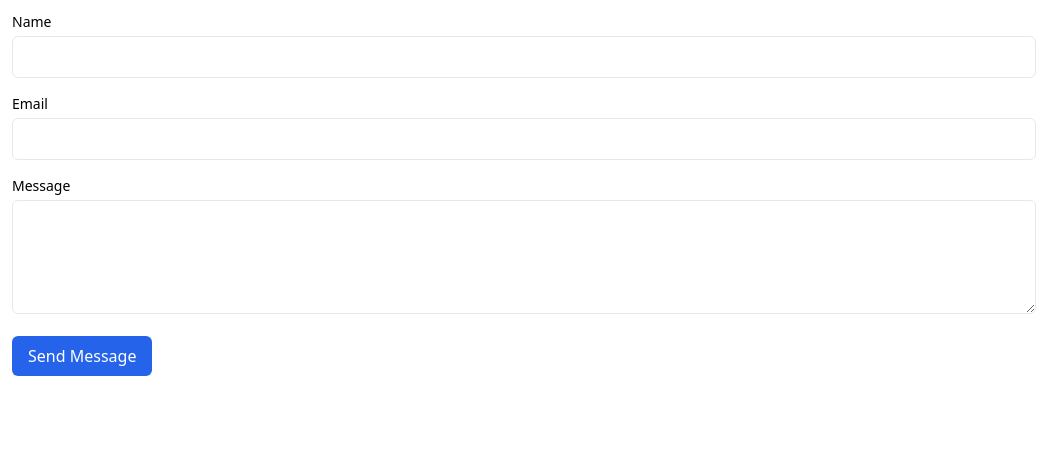
Test: ContactForm validation › shows success message after successful submission
Type "John Doe" into the field with id "name". click: (524, 57)
box: [12,36,1036,78]
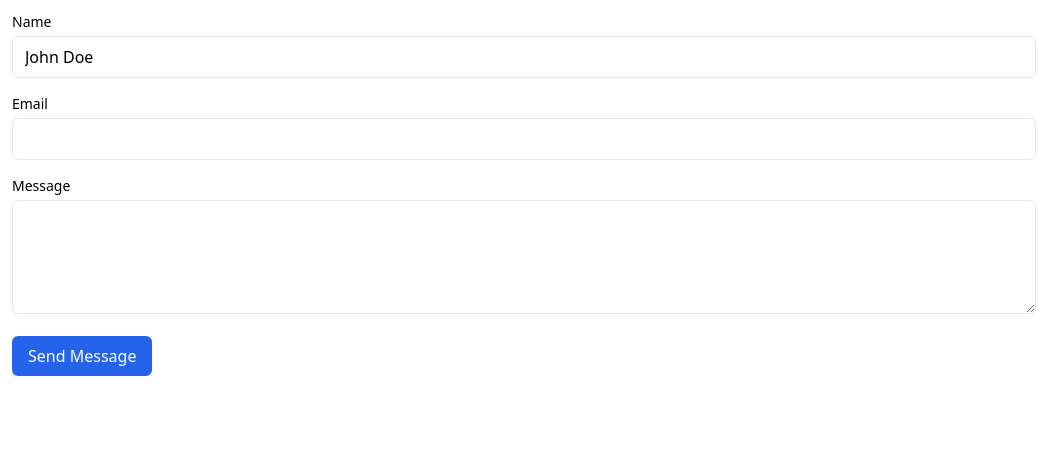
Type "john@example.com" into the field with id "email". click: (524, 139)
box: [12,118,1036,160]
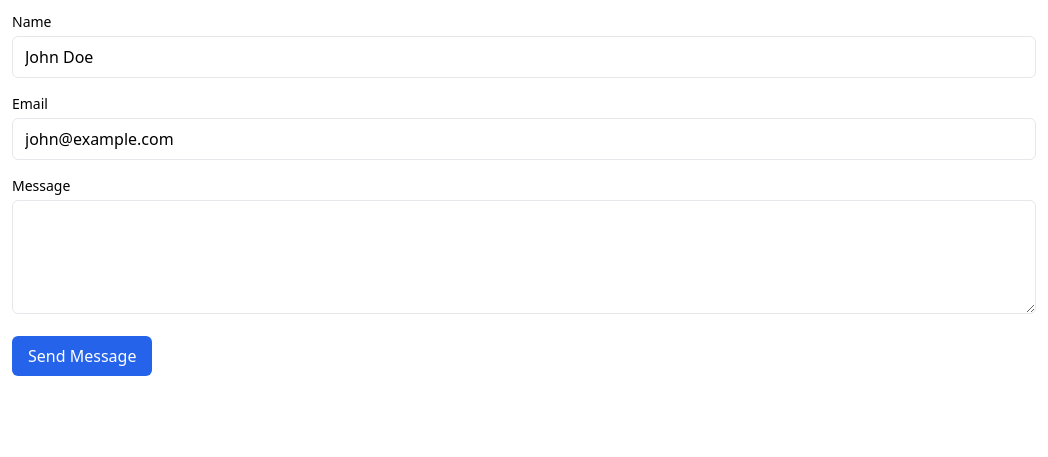
Type "Hello, this is a test message." into the text box with id "message". click: (524, 257)
box: [12,200,1036,314]
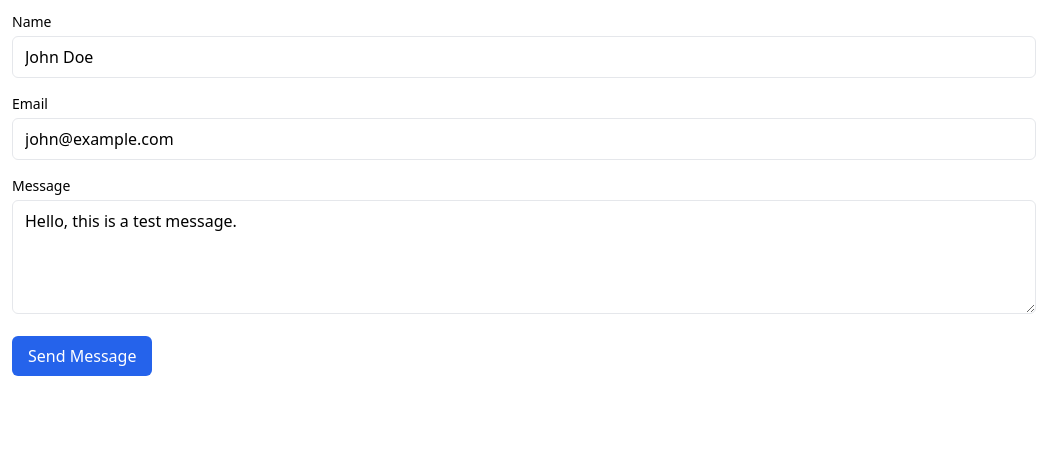
Submit the form
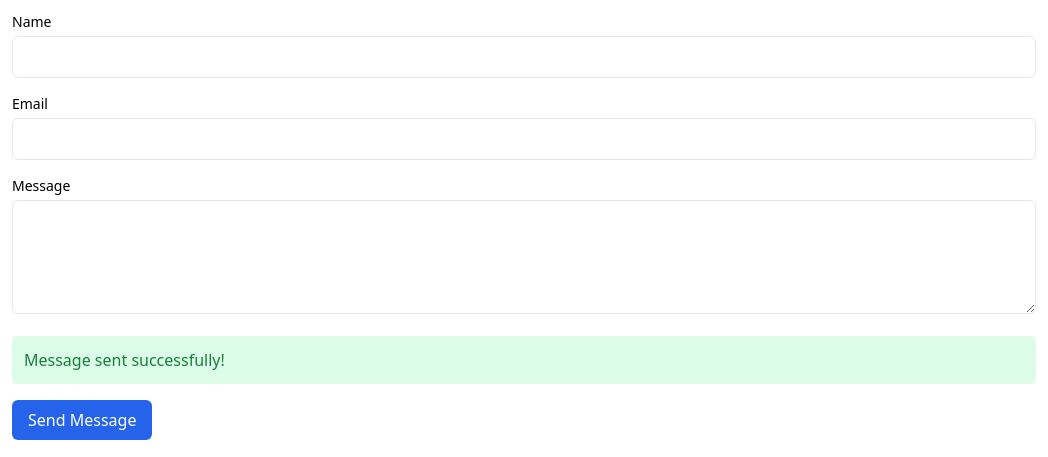
Expected: the form shows "Message sent successfully!", [24,349,225,371]
